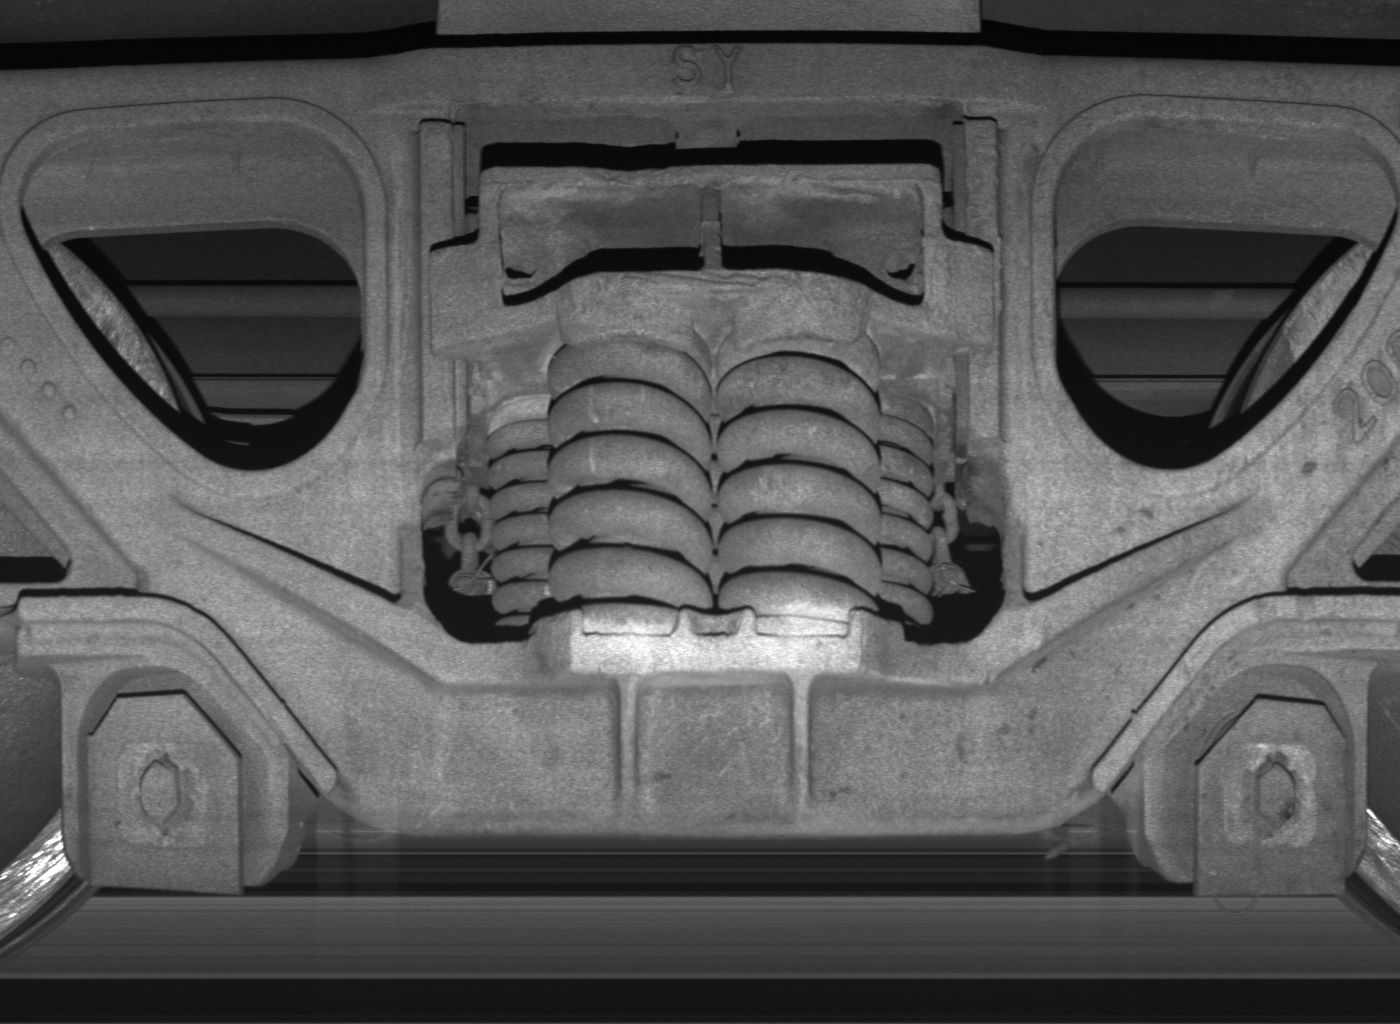normal: (60, 669, 286, 896), (1146, 667, 1365, 897)
